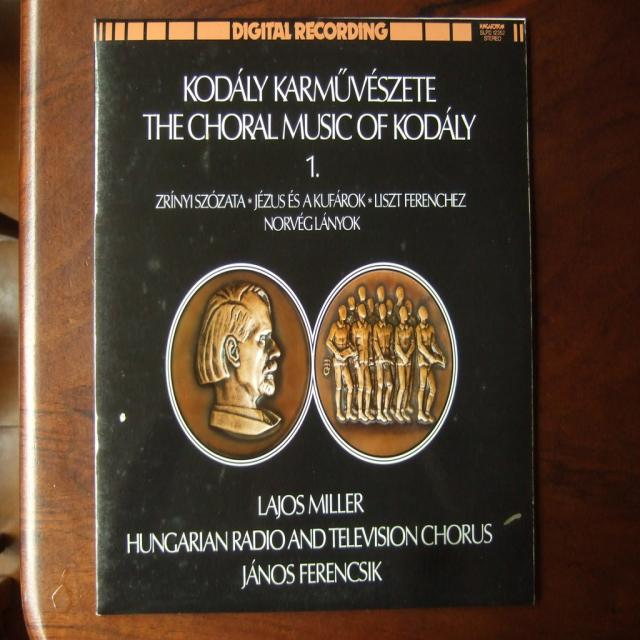Coin: (162, 256, 316, 466), (318, 258, 454, 463)
